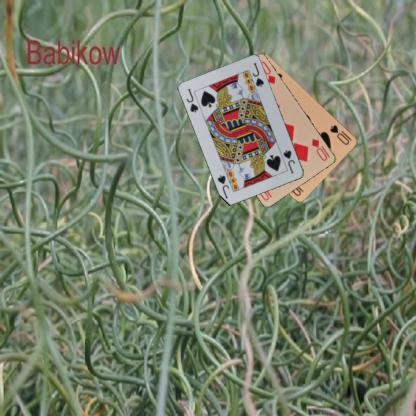10d: (309, 136, 332, 162)
10s: (328, 122, 354, 146)
Js: (280, 147, 297, 175), (184, 86, 200, 114)
